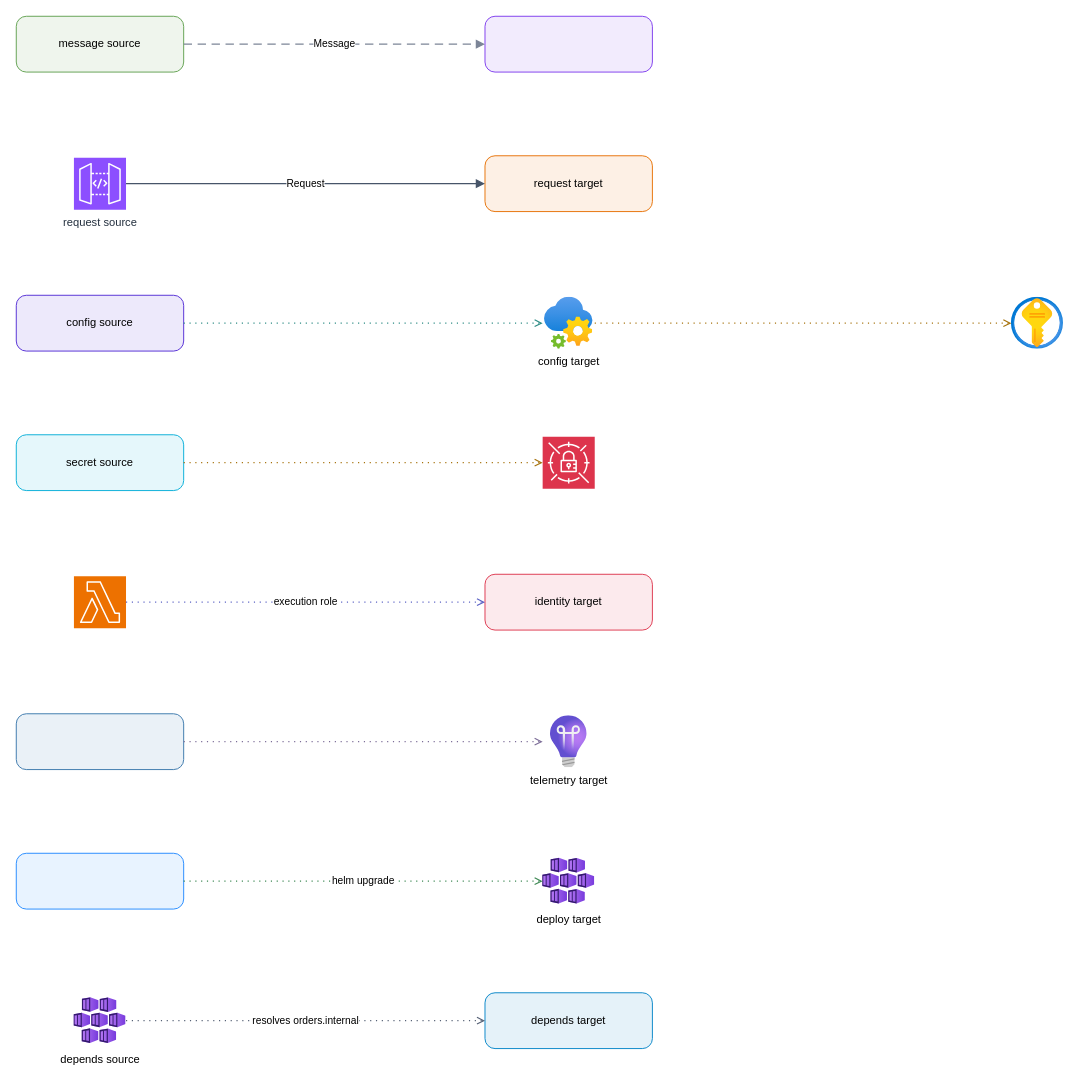
This 1080x1083 diagram has some shape labels left out. The centre of each missing label's shape, as x and y in pixels:
"deploy source" belongs at [99,880].
"identity source" belongs at [99,601].
"Key Vault" belongs at [1037,323].
"message target" belongs at [568,43].
"secret target" belongs at [568,462].
"telemetry source" belongs at [99,741].
